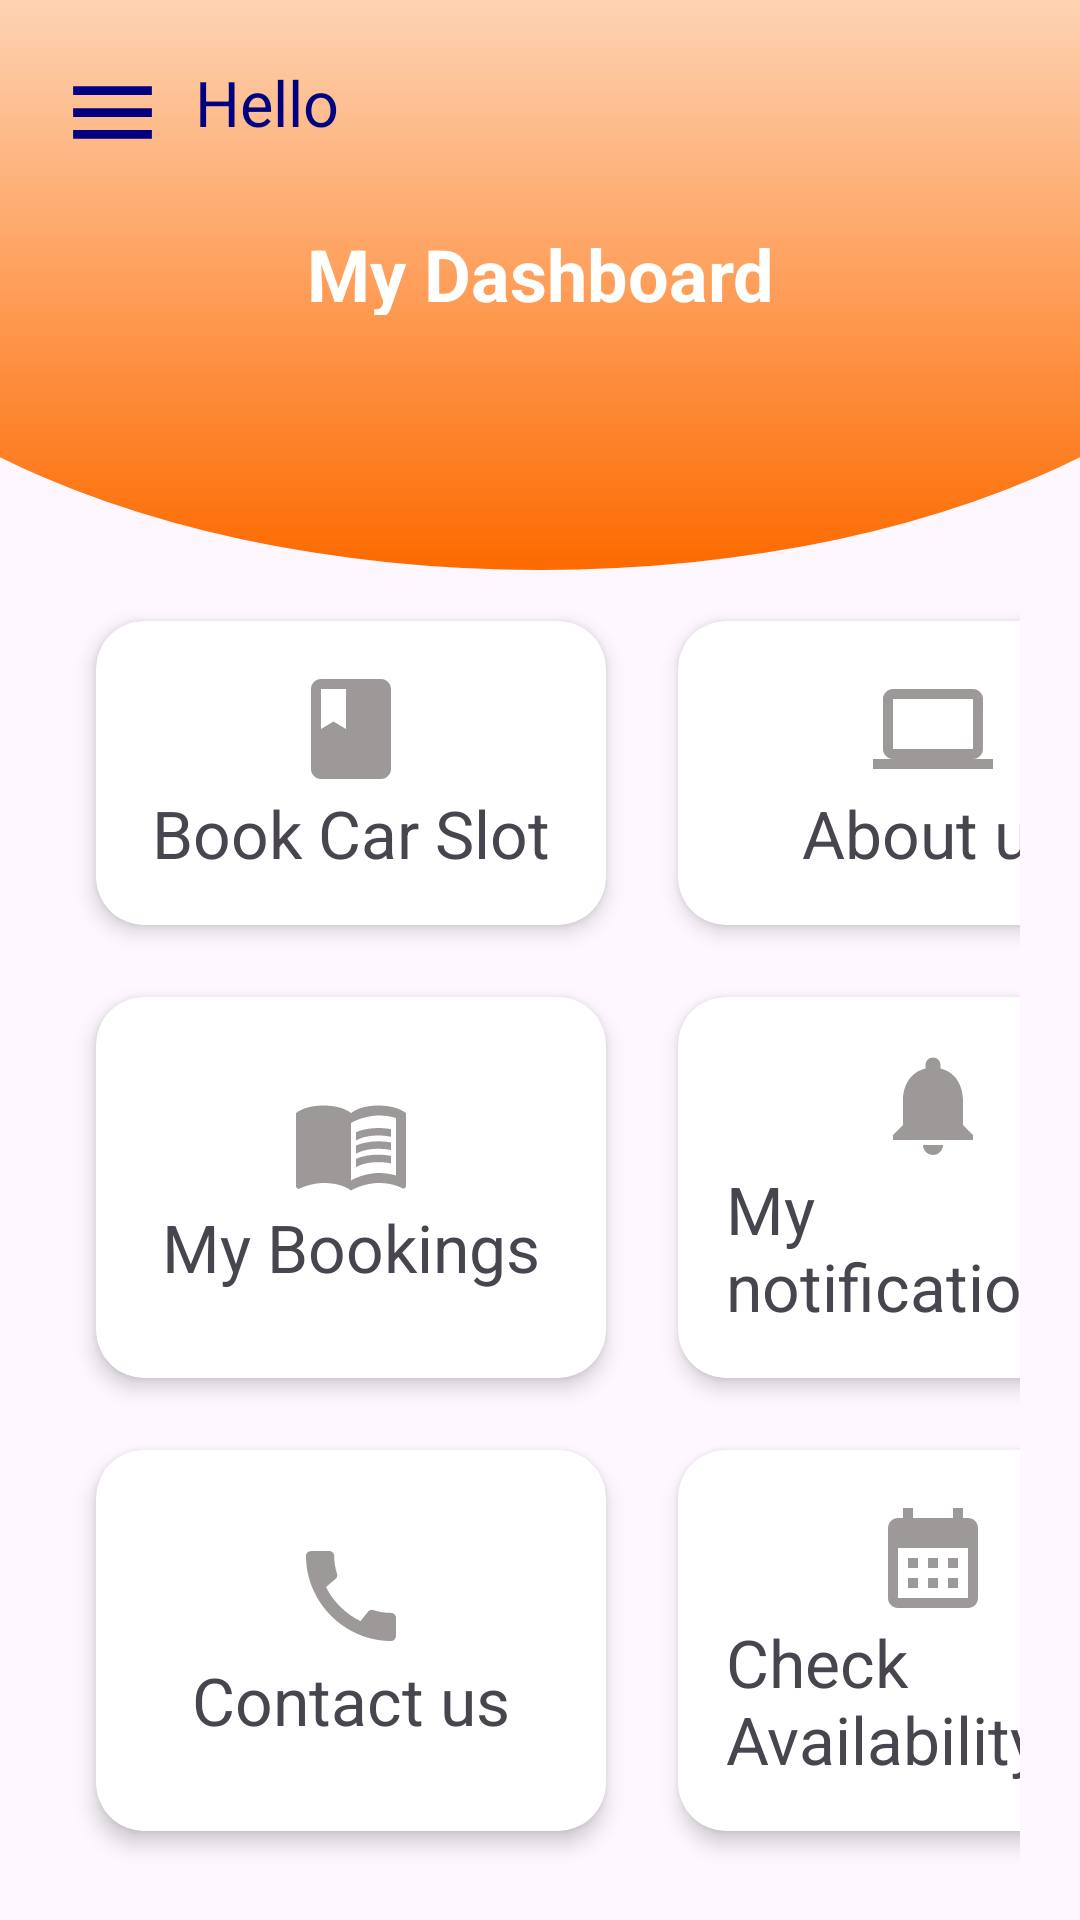

Named icons in this screenshot (1080 x 1920) and their centers, (x=x, y=y):
calendar: (x=933, y=1558)
call: (x=351, y=1596)
menu: (x=112, y=112)
